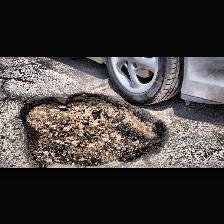pothole: (20, 91, 166, 166)
